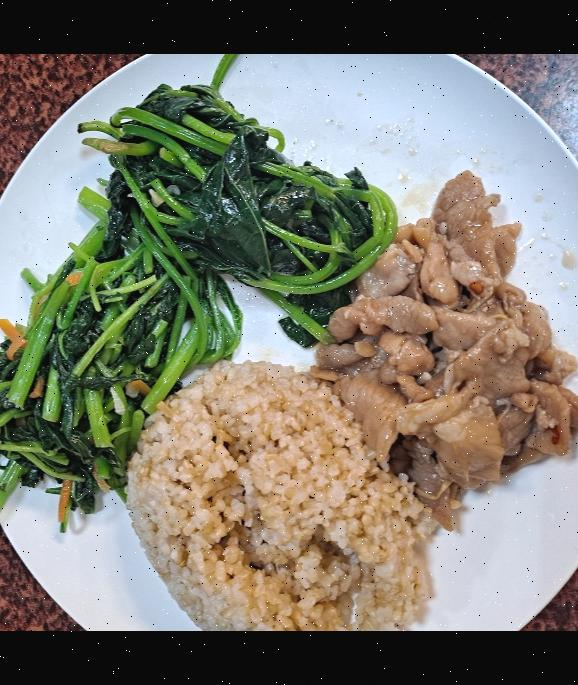brown rice: (114, 358, 428, 632)
garlic white meat: (315, 176, 578, 531)
plate: (0, 53, 578, 631)
side dish: (88, 84, 383, 335), (0, 233, 194, 522)
